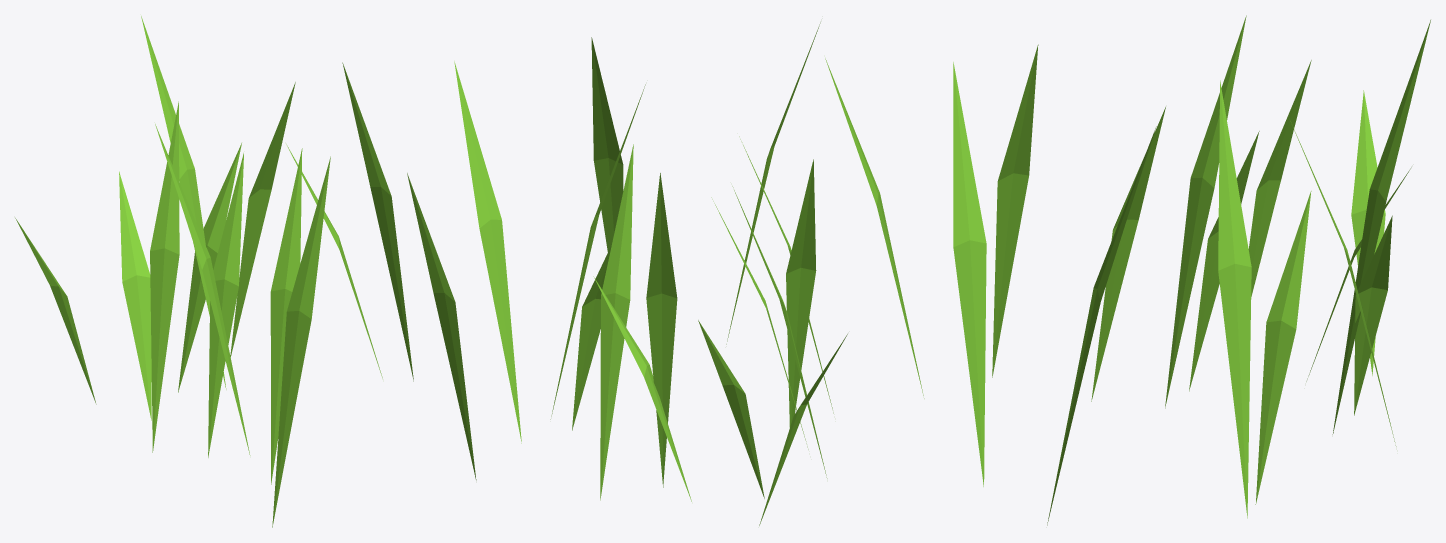
File: grass_tall_b.fbx
The picture shows the model from 3 angles, left to right: view 1: azimuth 30°, elevation 25°; view 2: azimuth 150°, elevation 25°; view 3: azimuth 270°, elevation 25°; orthographic projection. The views are drawn at different scales.
Visible parts, largest first — view 1: grass_tall_b; view 2: grass_tall_b; view 3: grass_tall_b.
Part boxes in pixels (left/top/right/bottom): grass_tall_b: left=15, top=16, right=521, bottom=527; grass_tall_b: left=550, top=22, right=924, bottom=525; grass_tall_b: left=953, top=15, right=1430, bottom=525.
Size of the model in its own units: 1.2 by 1.1 by 1.2.
